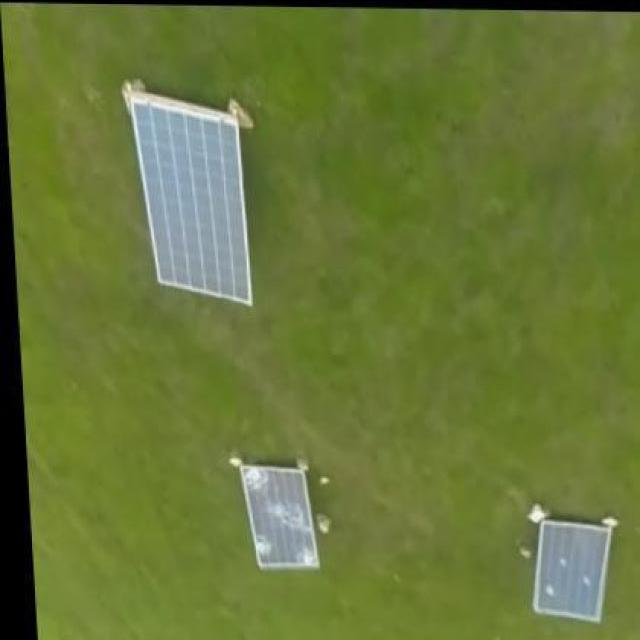cracked: (238, 460, 324, 575)
soiled: (530, 520, 613, 624)
